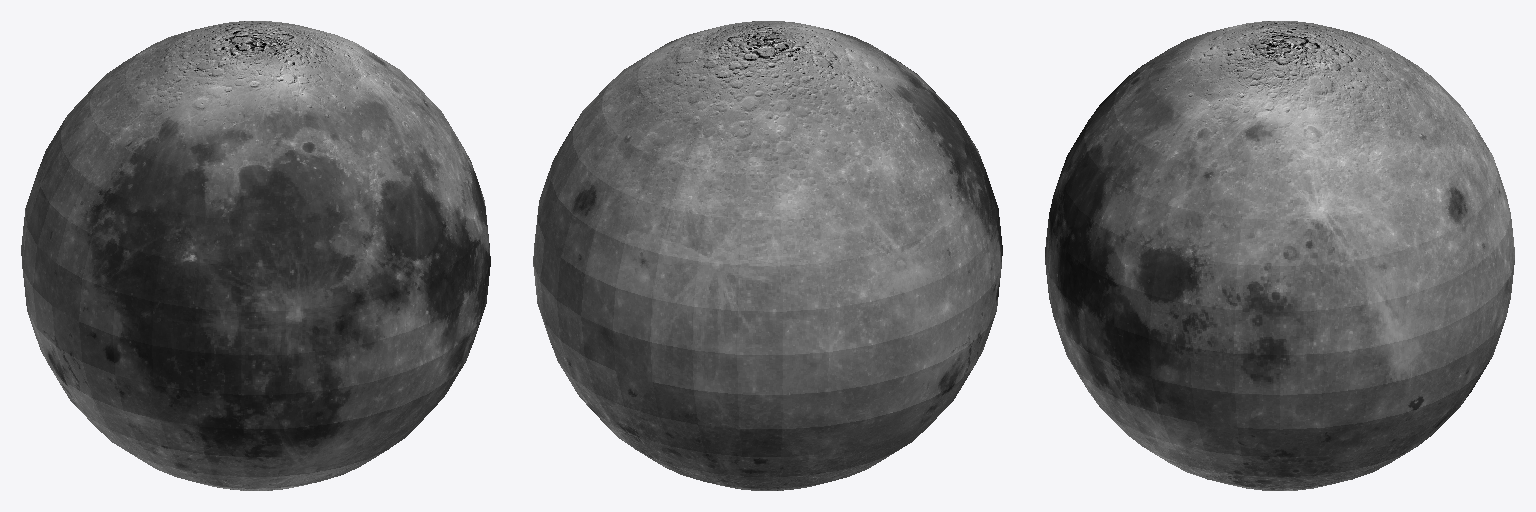
The picture shows the model from 3 angles: view 1: azimuth 30°, elevation 25°; view 2: azimuth 150°, elevation 25°; view 3: azimuth 270°, elevation 25°; orthographic projection.
Visible parts, largest first — view 1: Moon; view 2: Moon; view 3: Moon.
Boxes of the visible parts, <box> form: Moon: <box>21,21,490,490</box>; Moon: <box>533,21,1002,490</box>; Moon: <box>1045,21,1514,490</box>.
Size of the model in its own units: 8.54 by 8.54 by 8.54.
1 materials, 1 textured.